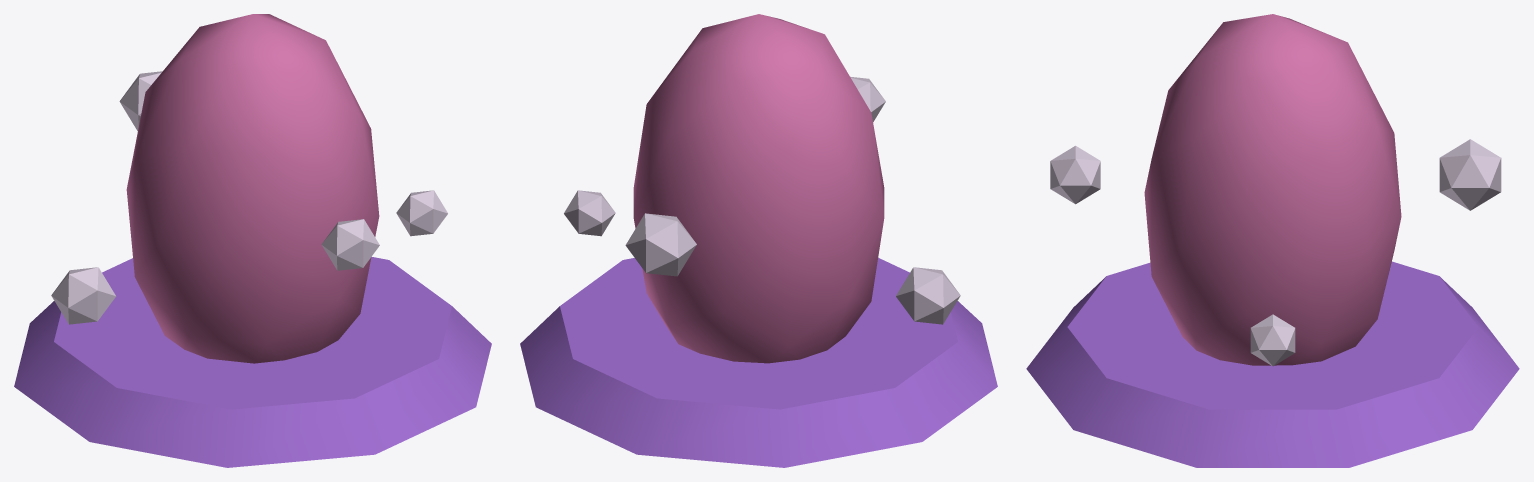
Rendered from crystal.glb.
The picture shows the model from 3 angles, left to right: view 1: azimuth 30°, elevation 25°; view 2: azimuth 150°, elevation 25°; view 3: azimuth 270°, elevation 25°; orthographic projection.
Parts seen in each view (by area): view 1: crystal_focus, crystal_base, crystal_pulse_2, crystal_pulse_1, crystal_pulse_0, crystal_pulse_3; view 2: crystal_focus, crystal_base, crystal_pulse_3, crystal_pulse_2, crystal_pulse_0, crystal_pulse_1; view 3: crystal_focus, crystal_base, crystal_pulse_3, crystal_pulse_1, crystal_pulse_0.
Boxes of the visible parts, bbox=[...] form: crystal_focus: bbox=[126, 14, 379, 363]; crystal_base: bbox=[14, 257, 491, 467]; crystal_pulse_2: bbox=[51, 267, 115, 324]; crystal_pulse_1: bbox=[321, 219, 379, 270]; crystal_pulse_0: bbox=[396, 190, 447, 236]; crystal_pulse_3: bbox=[119, 71, 162, 131]; crystal_focus: bbox=[633, 14, 884, 363]; crystal_base: bbox=[520, 258, 997, 467]; crystal_pulse_3: bbox=[625, 213, 696, 276]; crystal_pulse_2: bbox=[896, 267, 960, 324]; crystal_pulse_0: bbox=[564, 190, 615, 236]; crystal_pulse_1: bbox=[850, 76, 885, 122]; crystal_focus: bbox=[1144, 14, 1401, 365]; crystal_base: bbox=[1026, 261, 1519, 467]; crystal_pulse_3: bbox=[1439, 139, 1501, 210]; crystal_pulse_1: bbox=[1050, 145, 1100, 204]; crystal_pulse_0: bbox=[1250, 314, 1295, 366].
Size of what is drawn, in the model's own units: 2.85 by 2.56 by 3.
